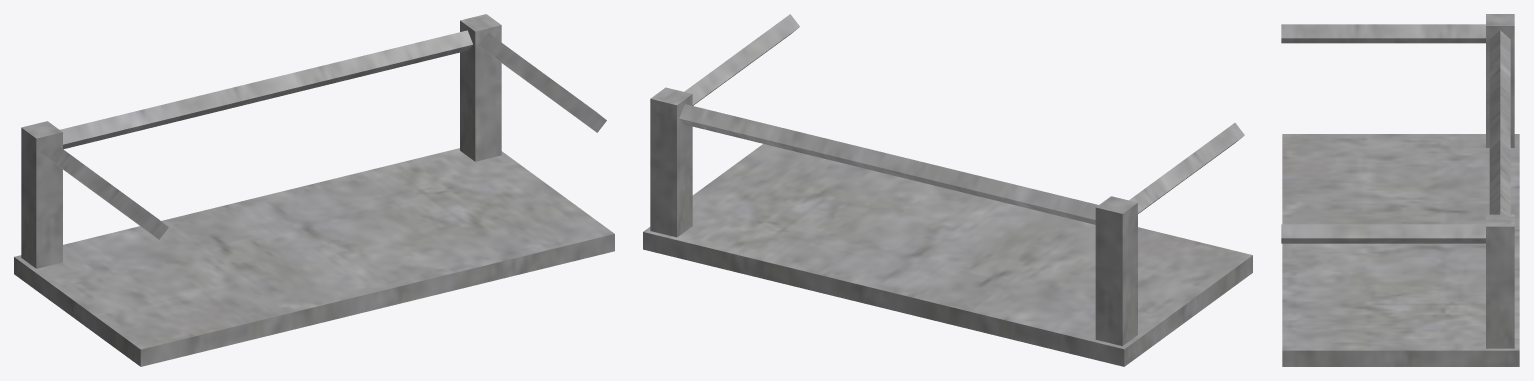
File: Shelf_03.glb
3 renders of one model, left to right at view 1: azimuth 30°, elevation 25°; view 2: azimuth 150°, elevation 25°; view 3: azimuth 270°, elevation 25°, orthographic. The views are drawn at different scales.
Parts seen in each view (by area): view 1: Shelf_03; view 2: Shelf_03; view 3: Shelf_03.
Part boxes in pixels (box(x1,y1,x2,y2)): Shelf_03: box(14, 14, 614, 366); Shelf_03: box(643, 14, 1252, 366); Shelf_03: box(1281, 14, 1519, 366).
Bounding box in the file's own units: 0.2621 × 0.078 × 0.1217.
Materials: 1 (1 with a texture image).
